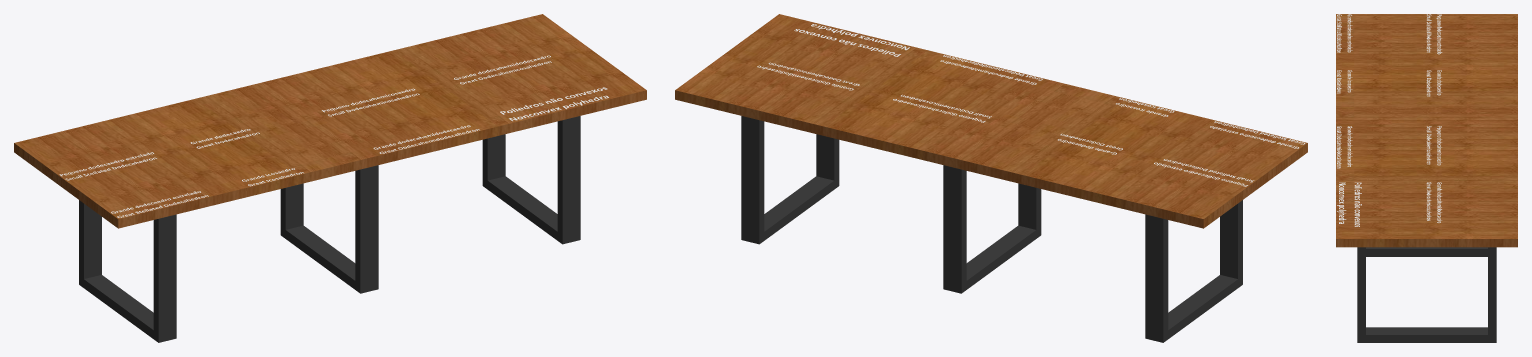
Rendered from mesa_nonConvex2.glb.
3 renders of one model, left to right at view 1: azimuth 30°, elevation 25°; view 2: azimuth 150°, elevation 25°; view 3: azimuth 270°, elevation 25°, orthographic. The views are drawn at different scales.
Visible parts, largest first — view 1: object 1, Composant#1 (×3), Poliedros não co#1; view 2: object 1, Composant#1 (×3), Poliedros não co#1; view 3: object 1, Composant#1 (×2), Poliedros não co#1, Grande dodecahem, Grande dodecahem#1, Pequeno dodecaed, Grande dodecaedr, Pequeno dodecahe, Grande dodecaedr#1, Grande icosaedro.
Part boxes in pixels (x1,y1,x2,y2): object 1: [14, 14, 646, 228]; Composant#1 (×3): [79, 116, 580, 342]; Poliedros não co#1: [500, 87, 608, 121]; object 1: [675, 14, 1307, 228]; Composant#1 (×3): [741, 116, 1242, 342]; Poliedros não co#1: [794, 24, 909, 56]; object 1: [1336, 14, 1517, 247]; Composant#1 (×2): [1357, 247, 1496, 342]; Poliedros não co#1: [1337, 182, 1361, 226]; Grande dodecahem: [1337, 126, 1352, 168]; Grande dodecahem#1: [1426, 182, 1441, 222]; Pequeno dodecaed: [1426, 14, 1442, 54]; Grande dodecaedr: [1337, 14, 1352, 52]; Pequeno dodecahe: [1426, 126, 1441, 165]; Grande dodecaedr#1: [1426, 70, 1441, 96]; Grande icosaedro: [1337, 70, 1352, 93].
Bounding box in the file's own units: 2.93 × 0.7711 × 1.
Materials: 3 (1 with a texture image).
